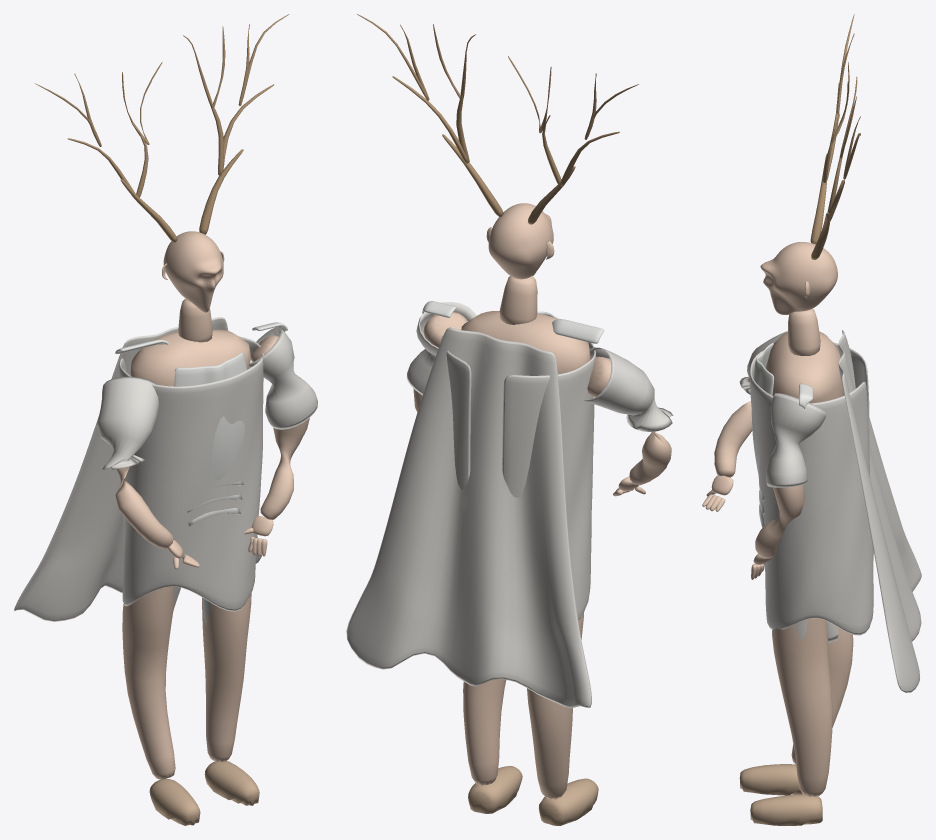
File: grove_soldier.glb
3 views of the same model, side by side, from view 1: azimuth 30°, elevation 25°; view 2: azimuth 150°, elevation 25°; view 3: azimuth 270°, elevation 25° (orthographic). The views are drawn at different scales.
Visible parts, largest first — view 1: Robe, Cape, LegR, LegL, SleeveR, Body, SleeveL, Head, Plate, ArmL, ArmR, BootL (+3 smaller); view 2: Cape, Robe, LegR, LegL, Head, SleeveR, Body, ArmR, BootR, BootL, Neck, SleeveL (+3 smaller); view 3: Robe, Cape, LegL, Head, SleeveL, Body, BootL, ArmL, ArmR, BootR, LegR, Neck (+2 smaller).
Boxes of the visible parts, <box> form: Robe: <box>119,336,263,611</box>; Cape: <box>14,317,261,621</box>; LegR: <box>122,586,175,779</box>; LegL: <box>202,593,251,761</box>; SleeveR: <box>97,376,159,469</box>; Body: <box>130,329,251,386</box>; SleeveL: <box>249,327,317,429</box>; Head: <box>163,231,223,312</box>; Plate: <box>174,352,247,479</box>; ArmL: <box>251,335,309,519</box>; ArmR: <box>115,466,173,548</box>; BootL: <box>204,761,259,805</box>; Cape: <box>346,327,591,708</box>; Robe: <box>441,321,595,621</box>; LegR: <box>527,613,583,799</box>; LegL: <box>463,679,506,785</box>; Head: <box>488,203,553,279</box>; SleeveR: <box>584,347,673,431</box>; Body: <box>461,311,590,374</box>; ArmR: <box>587,356,671,485</box>; BootR: <box>538,778,598,825</box>; BootL: <box>468,766,522,813</box>; Neck: <box>499,276,537,324</box>; SleeveL: <box>406,302,476,395</box>; Robe: <box>749,342,873,635</box>; Cape: <box>838,330,921,692</box>; LegL: <box>772,618,832,796</box>; Head: <box>760,242,837,314</box>; SleeveL: <box>765,393,826,487</box>; Body: <box>765,331,843,403</box>; BootL: <box>750,794,822,825</box>; ArmL: <box>755,484,804,558</box>; ArmR: <box>714,401,752,477</box>; BootR: <box>739,764,802,795</box>; LegR: <box>791,627,853,763</box>; Neck: <box>788,308,820,355</box>.
Bounding box in the file's own units: 0.8646 × 2.35 × 0.6375.
